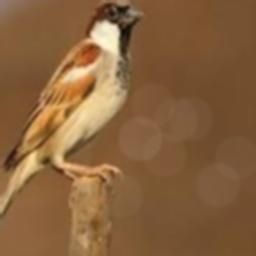Sparrow: (0, 0, 144, 249)
